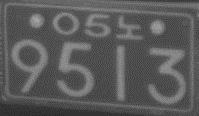0: (52, 11, 80, 36)
1: (104, 43, 138, 102)
3: (148, 45, 186, 104)
5: (55, 41, 96, 98), (83, 13, 110, 38)
9: (11, 38, 49, 94)
노: (115, 14, 144, 40)
